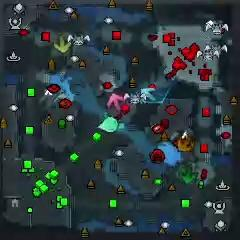p2: (98, 116, 118, 133)
x1: (106, 94, 124, 111)
x2: (54, 36, 71, 53)
x3: (139, 86, 155, 103)
x4: (180, 165, 196, 183)
x5: (176, 136, 192, 152)
